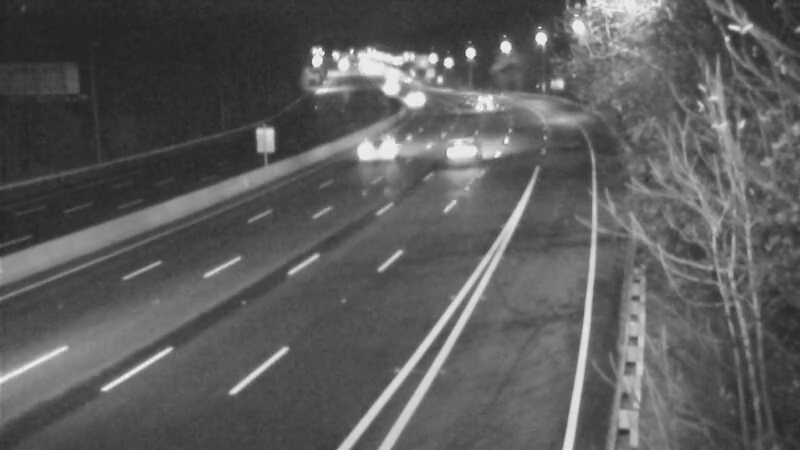vehicle: (421, 113, 501, 193), (384, 73, 434, 123), (454, 72, 504, 122), (460, 84, 510, 134), (353, 124, 403, 174)
